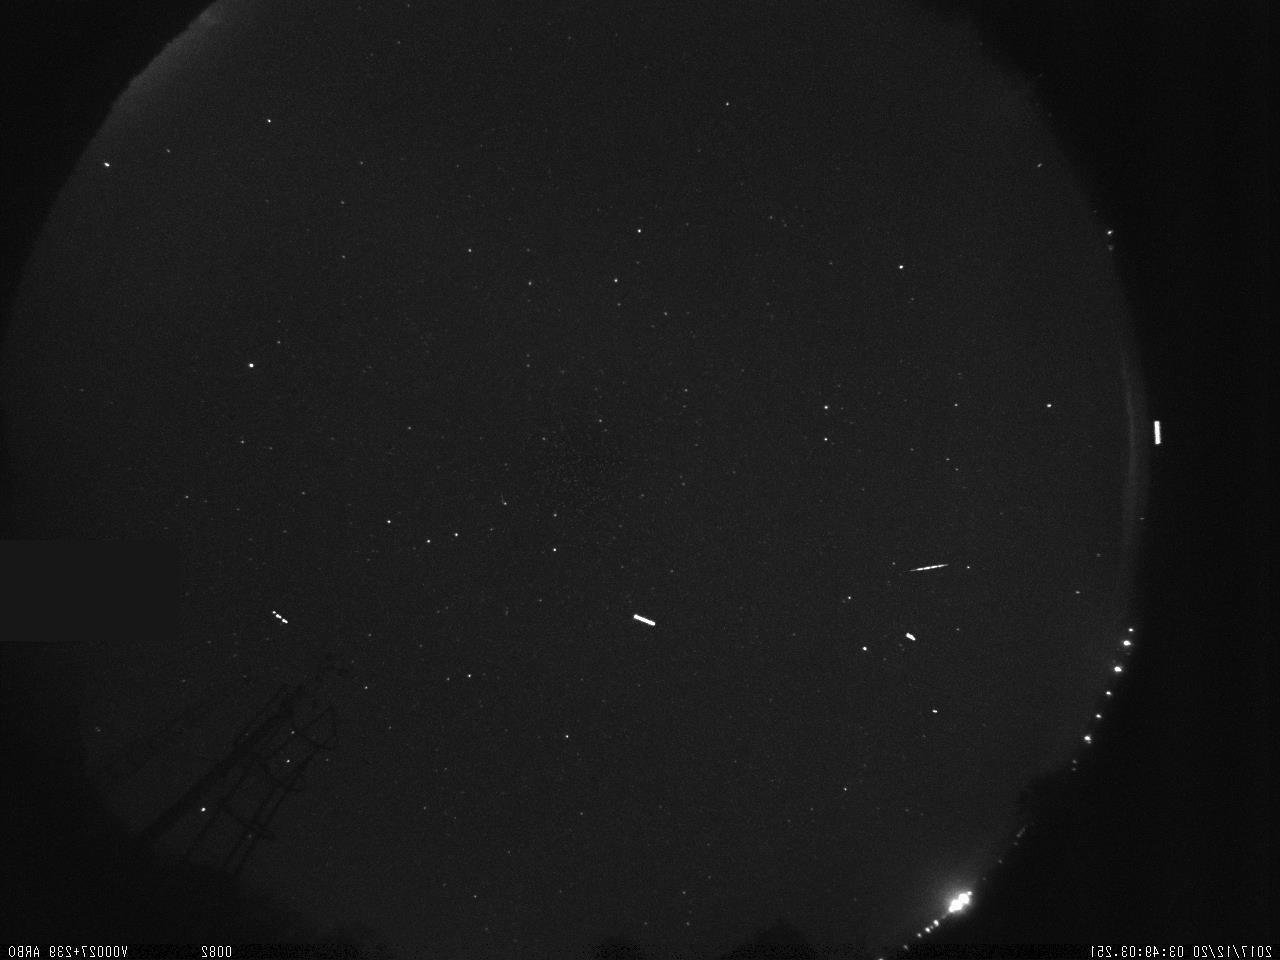meteor: (901, 553, 957, 581)
satelite: (264, 598, 296, 634), (623, 606, 664, 634), (899, 629, 920, 645)
